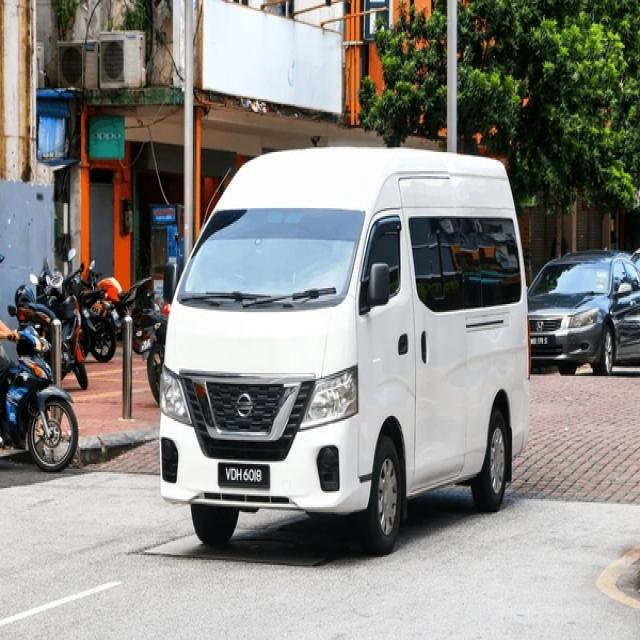nissan: (234, 393, 257, 421)
